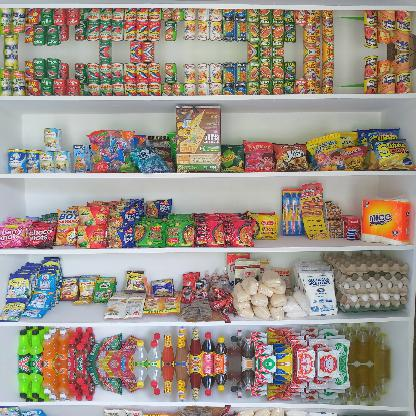Koko-Krunch: (176, 105, 220, 173)
